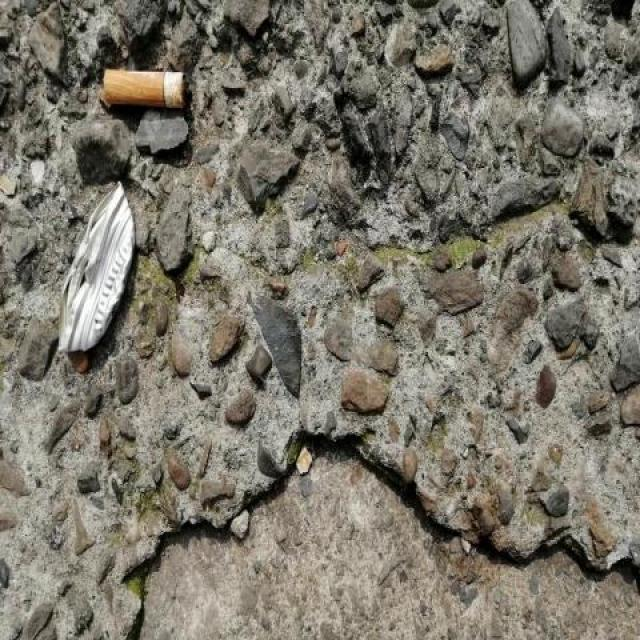non-organic waste: (99, 65, 197, 118)
